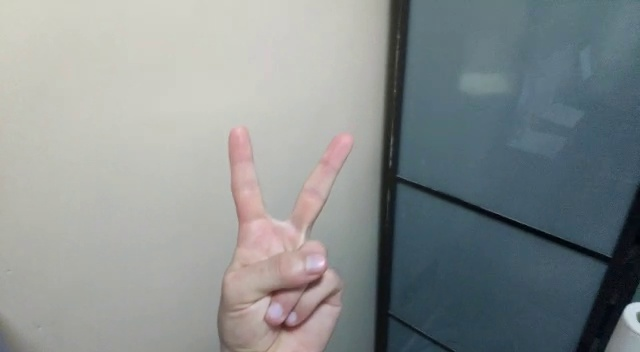Peace: (210, 121, 355, 352)
